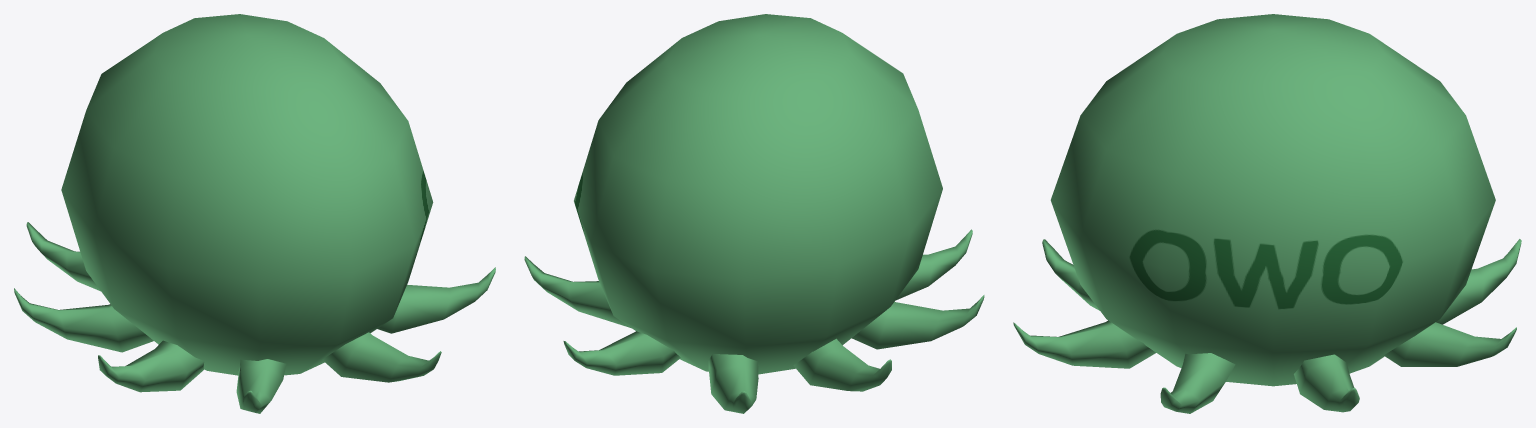
The model's file is Octopus Blob OWO GREEN (1).fbx.
3 renders of one model, left to right at view 1: azimuth 30°, elevation 25°; view 2: azimuth 150°, elevation 25°; view 3: azimuth 270°, elevation 25°, orthographic. The views are drawn at different scales.
Parts seen in each view (by area): view 1: Cylinder006; view 2: Cylinder006; view 3: Cylinder006.
Part boxes in pixels (bbox=[...]): Cylinder006: bbox=[14, 14, 495, 413]; Cylinder006: bbox=[524, 14, 984, 413]; Cylinder006: bbox=[1013, 14, 1521, 413].
Size of the model in its own units: 17.84 by 13.75 by 19.36.
1 material, 1 textured.
